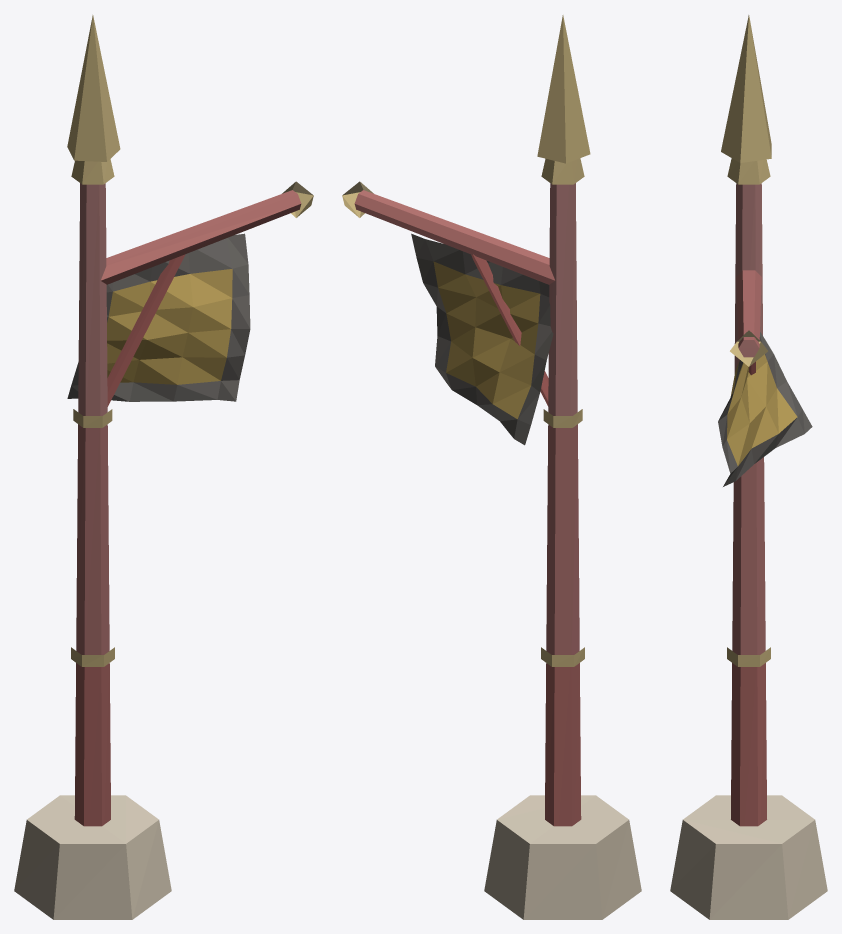
File: flag.square.huangqi__pole.ground.miaogan__armHang.glb
3 renders of one model, left to right at view 1: azimuth 30°, elevation 25°; view 2: azimuth 150°, elevation 25°; view 3: azimuth 270°, elevation 25°, orthographic.
Parts seen in each view (by area): view 1: flag.square.huangqi; view 2: flag.square.huangqi; view 3: flag.square.huangqi.
Boxes of the visible parts, <box> form: flag.square.huangqi: <box>14,15,313,919</box>; flag.square.huangqi: <box>342,15,641,919</box>; flag.square.huangqi: <box>670,15,827,919</box>.
Size of the model in its own units: 1.72 by 5.16 by 0.84.
